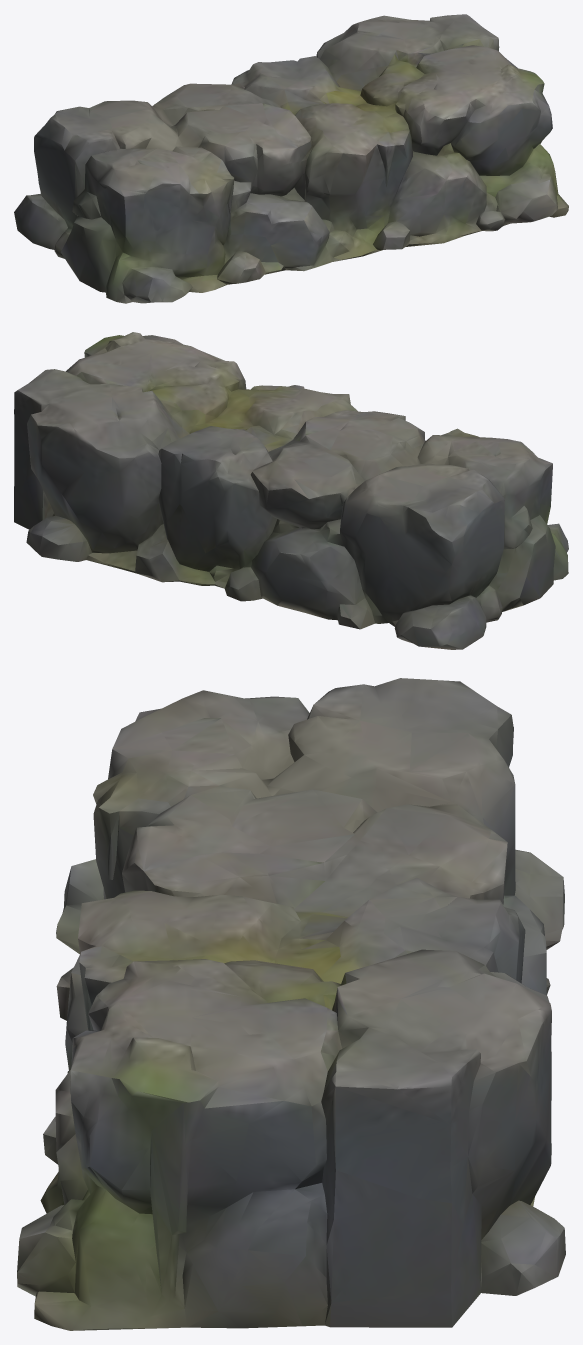
File: cueva_pared_baja_3000.glb
3 renders of one model, top to bottom at view 1: azimuth 30°, elevation 25°; view 2: azimuth 150°, elevation 25°; view 3: azimuth 270°, elevation 25°, orthographic. The views are drawn at different scales.
Visible parts, largest first — view 1: cueva_pared_baja_malla; view 2: cueva_pared_baja_malla; view 3: cueva_pared_baja_malla.
Boxes of the visible parts, bbox=[...] form: cueva_pared_baja_malla: bbox=[14, 14, 568, 303]; cueva_pared_baja_malla: bbox=[14, 332, 568, 649]; cueva_pared_baja_malla: bbox=[17, 678, 565, 1330].
Bounding box in the file's own units: 0.5381 × 0.1481 × 0.2877.
Materials: 1 (1 with a texture image).
